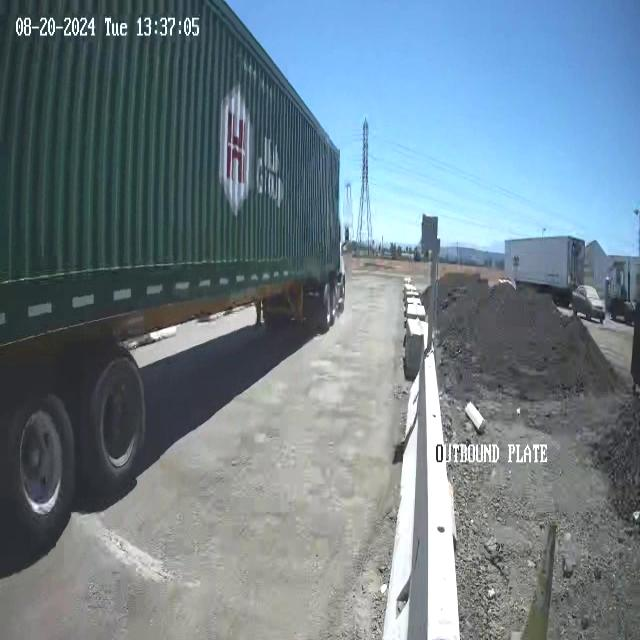TRUCK_CONTAINER: (1, 0, 347, 566)
